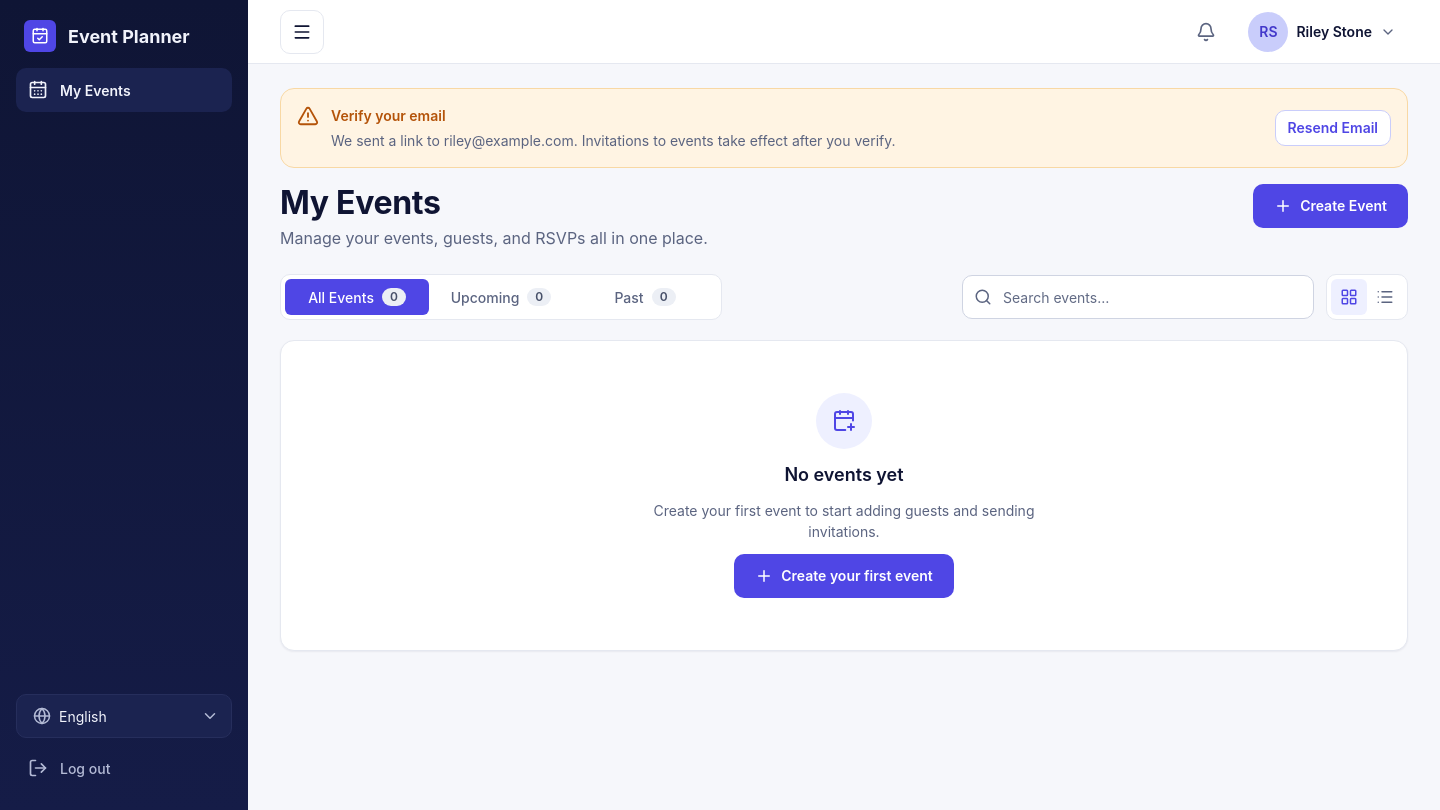
email verification (D89) › asks a new account to verify, and sends the email again on request
Check: the text "Verify your email" is shown, box [331,107,446,124]
What coordinates should you click on to do the following:
click the button "Resend Email"
I would click on:
 (1333, 128)
Its box is [1274,110,1391,146].
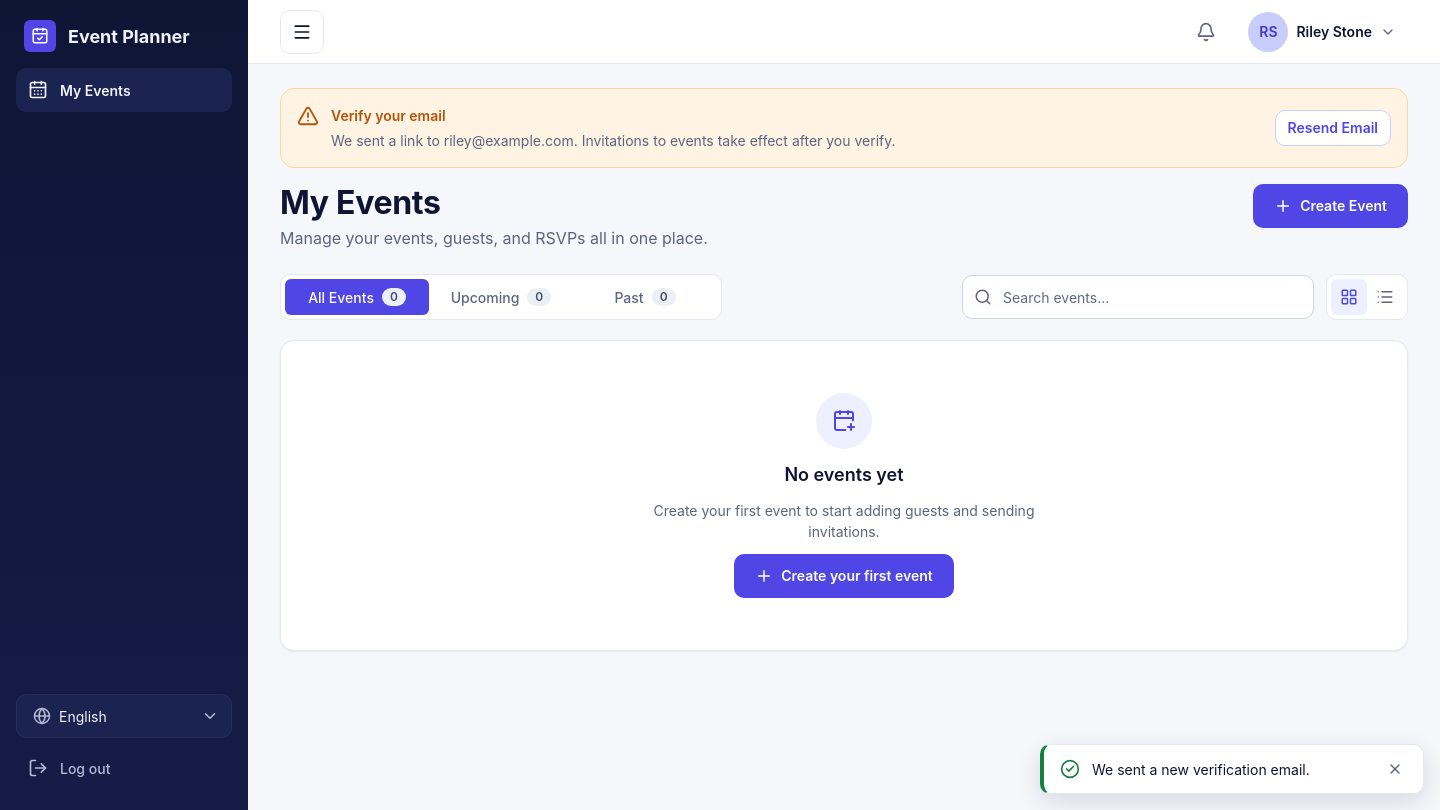
Check: the text "We sent a new verification email." is shown, box [1092,760,1310,778]
